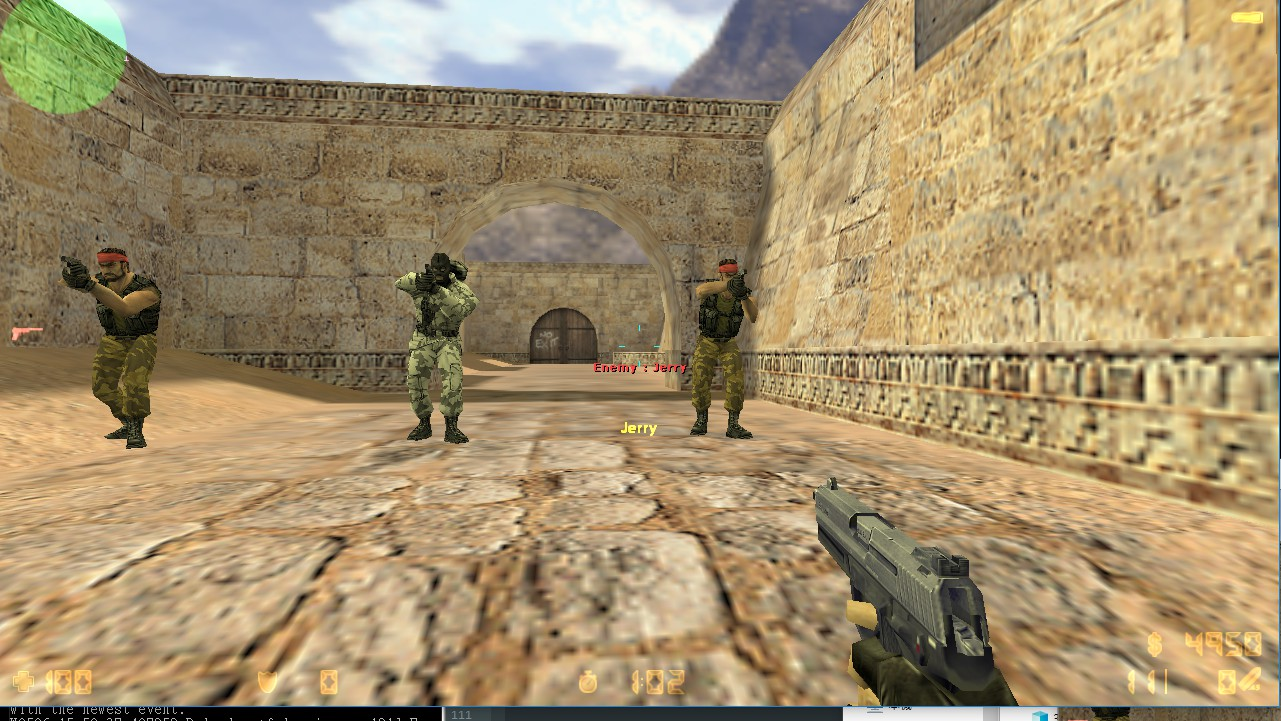person: (56, 236, 165, 458), (387, 242, 486, 448), (678, 245, 759, 445)
